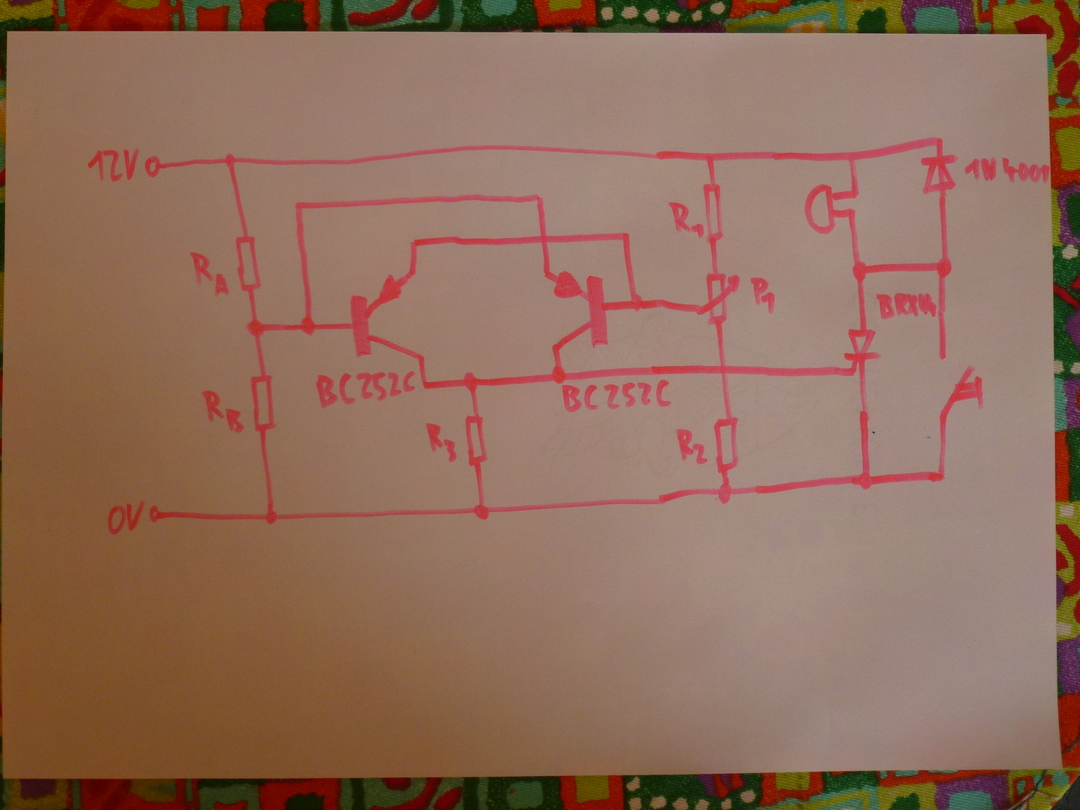crossover: (535, 231, 554, 248), (715, 360, 731, 377)
diode: (919, 153, 958, 195)
junction: (624, 292, 646, 314), (298, 315, 319, 338), (935, 255, 954, 280), (850, 260, 871, 282), (245, 317, 266, 339), (460, 371, 480, 393), (855, 470, 875, 491), (472, 503, 492, 523), (549, 363, 568, 384), (717, 482, 734, 504), (930, 133, 949, 152), (263, 509, 280, 528), (223, 152, 238, 171), (844, 148, 860, 165), (417, 376, 433, 393), (933, 466, 947, 485), (530, 190, 546, 206), (702, 150, 718, 165), (292, 198, 307, 214), (618, 228, 633, 244), (408, 237, 423, 251), (847, 185, 861, 199), (845, 206, 858, 221)
lamp: (802, 182, 838, 237)
resistor: (712, 415, 742, 473), (234, 234, 263, 293), (249, 373, 277, 434), (702, 179, 725, 246), (463, 411, 489, 467)
resistor.adjustable: (698, 270, 741, 324)
switch: (937, 355, 985, 419)
terminal: (142, 154, 164, 180), (147, 503, 163, 526)
text: (314, 370, 416, 409), (560, 378, 672, 413), (963, 156, 1050, 187), (188, 249, 231, 297), (200, 389, 245, 434), (87, 147, 140, 182), (874, 292, 938, 319), (424, 420, 459, 463), (667, 201, 705, 240), (106, 499, 145, 535), (675, 427, 709, 465), (749, 276, 776, 314)
thyristor: (842, 327, 881, 378)
transistor: (349, 266, 428, 362), (543, 270, 610, 349)
